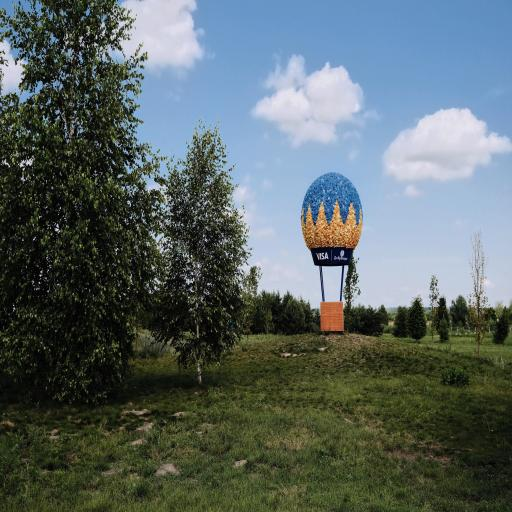hot air ballon: (300, 170, 364, 332)
